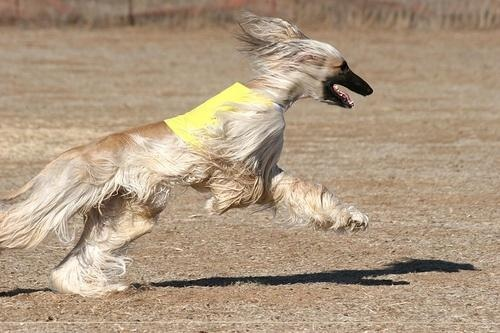dog: (1, 16, 374, 299)
